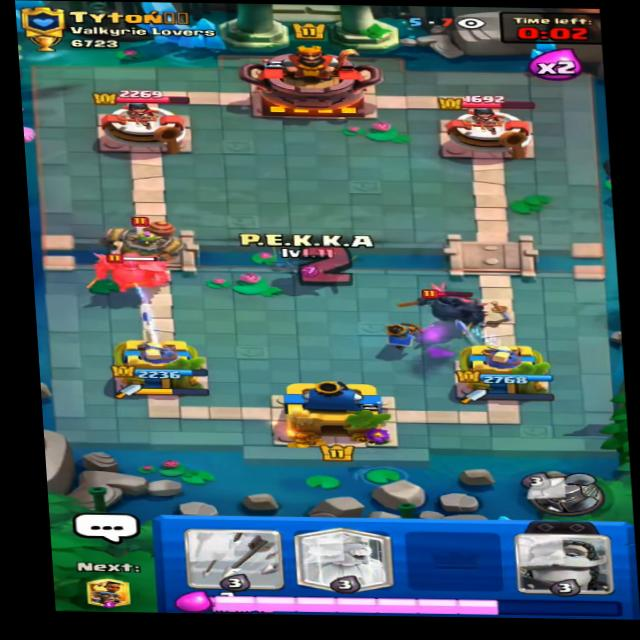goblin-machine: (103, 208, 195, 266)
pekka: (77, 247, 180, 293), (399, 280, 491, 326)
